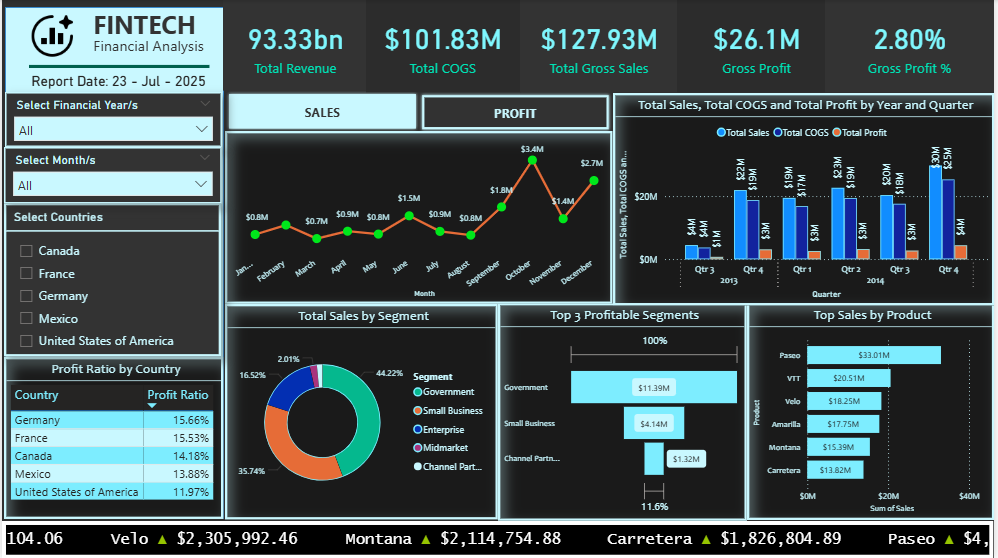

The page's visual inventory and layout, read from the dashboard file:
{"tool":"powerbi","page":{"name":"Q9. Dashboard","canvas":[1280,720],"ordinal":8},"visuals":[{"type":"shape","box":[3.9,9,282.6,660.6],"z":1000},{"type":"tableEx","title":"Profit Ratio by Country","fields":{"Values":["financials.Country","financials.Profit Ratio"]},"box":[3,460.6,283.3,209.1],"z":2000},{"type":"ScrollingTextVisual1448795304508","fields":{"Category":["financials.Product"],"Measure Deviation":["Sum(financials.Profit)"]},"box":[0,672.1,1279.4,48.5],"z":3000},{"type":"barChart","title":"Top Sales by Product","fields":{"Category":["financials.Product"],"Y":["Sum(financials. Sales)"]},"box":[961.4,391.4,318.6,280],"z":4000},{"type":"funnel","title":"Top 3 Profitable Segments","fields":{"Category":["financials.Segment"],"Y":["Sum(financials.Profit)"]},"box":[640,391.4,321.4,281.4],"z":5000},{"type":"donutChart","title":"Total Sales by Segment","fields":{"Category":["financials.Segment"],"Y":["Sum(financials. Sales)"]},"box":[288.1,392.5,352.2,277.6],"z":6000},{"type":"clusteredColumnChart","fields":{"Category":["financials.Date.Variation.Date Hierarchy.Year","financials.Date.Variation.Date Hierarchy.Quarter"],"Y":["Sum(financials. Sales)","Sum(financials.COGS)","Sum(financials.Profit)"]},"box":[788.4,120,491.6,273.5],"z":7000},{"type":"shape","title":"Profit_G","box":[537.8,118.9,248.9,52.2],"z":10000},{"type":"shape","title":"Sales_B","box":[288.9,117.8,248.9,52.2],"z":11000},{"type":"lineChart","title":"Total Profit by Month","fields":{"Category":["financials.Date.Variation.Date Hierarchy.Month"],"Y":["Sum(financials.Profit)"]},"box":[287.8,168.9,500,223.3],"z":13000},{"type":"slicer","fields":{"Values":["financials.Year"]},"box":[3.3,118.9,280,71.1],"z":14000},{"type":"slicer","title":"Select Countries","fields":{"Values":["financials.Country"]},"box":[3,262.1,280.3,198.5],"z":15000},{"type":"slicer","fields":{"Values":["financials.Date.Variation.Date Hierarchy.Month"]},"box":[3,189.6,280.6,73.1],"z":16000},{"type":"shape","box":[13.4,9,261.2,65.7],"z":17000},{"type":"image","box":[28.4,13.4,73.1,67.2],"z":18000},{"type":"textbox","box":[98.5,41.8,182.1,43.3],"z":19000},{"type":"shape","box":[34.3,67.2,232.8,37.3],"z":20000},{"type":"card","title":"REVENUE","fields":{"Values":["financials.Total Revenue"]},"box":[285.7,0,187.1,117.1],"z":21000},{"type":"card","fields":{"Values":["Sum(financials.COGS)"]},"box":[470,0,198.6,118.6],"z":22000},{"type":"card","fields":{"Values":["Sum(financials.Gross Sales)"]},"box":[668.6,0,204.3,118.6],"z":23000},{"type":"card","fields":{"Values":["financials.Gross Profit"]},"box":[871.4,0,205.7,118.6],"z":24000},{"type":"card","title":"GROSS PROFIT","fields":{"Values":["financials.Gross Profit %"]},"box":[1061.4,0,218.6,118.6],"z":25000},{"type":"cardVisual","fields":{"Data":["financials.Report Date"]},"box":[21.2,68.2,278.8,63.6],"z":26000}]}

Visuals, with their boxes in screenshot pixels (x1, y1, x2, y2), scaled from the page's 1280x720 canvas onto the 998x558 screenshot:
shape: locate(3, 7, 223, 519)
"Profit Ratio by Country" tableEx: locate(2, 357, 223, 519)
ScrollingTextVisual1448795304508 - financials.Product x Sum(financials.Profit): locate(0, 521, 997, 557)
"Top Sales by Product" barChart: locate(750, 303, 997, 520)
"Top 3 Profitable Segments" funnel: locate(499, 303, 750, 521)
"Total Sales by Segment" donutChart: locate(225, 304, 499, 519)
clusteredColumnChart - financials.Date.Variation.Date Hierarchy.Year x financials.Date.Variation.Date Hierarchy.Quarter: locate(615, 93, 997, 305)
"Profit_G" shape: locate(419, 92, 613, 133)
"Sales_B" shape: locate(225, 91, 419, 132)
"Total Profit by Month" lineChart: locate(224, 131, 614, 304)
slicer - financials.Year: locate(3, 92, 221, 147)
"Select Countries" slicer: locate(2, 203, 221, 357)
slicer - financials.Date.Variation.Date Hierarchy.Month: locate(2, 147, 221, 204)
shape: locate(10, 7, 214, 58)
image: locate(22, 10, 79, 62)
textbox: locate(77, 32, 219, 66)
shape: locate(27, 52, 208, 81)
"REVENUE" card: locate(223, 0, 369, 91)
card - Sum(financials.COGS): locate(366, 0, 521, 92)
card - Sum(financials.Gross Sales): locate(521, 0, 681, 92)
card - financials.Gross Profit: locate(679, 0, 840, 92)
"GROSS PROFIT" card: locate(828, 0, 997, 92)
cardVisual - financials.Report Date: locate(17, 53, 234, 102)
